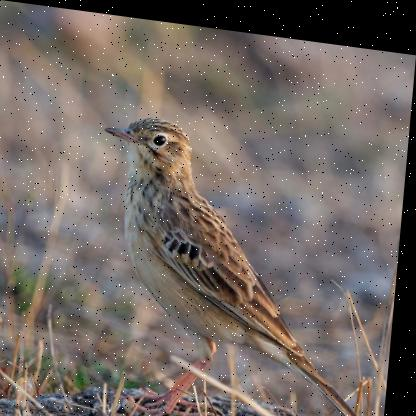Burung: (84, 106, 397, 415)
